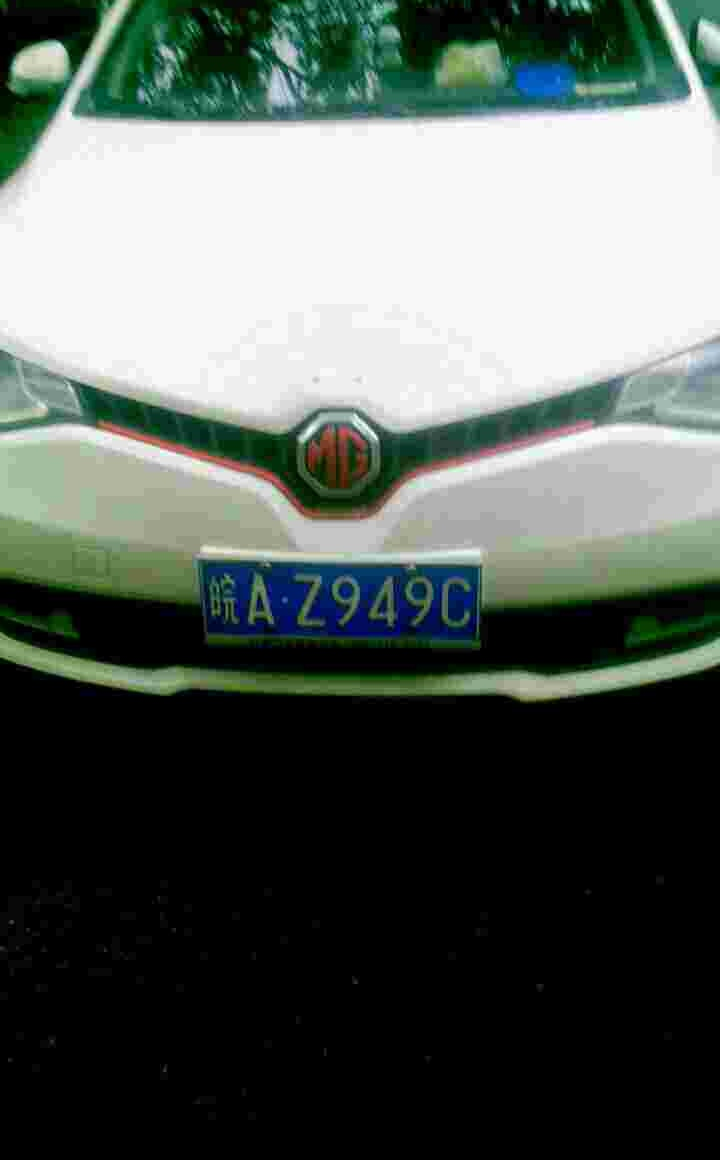license_plate: (198, 567, 484, 645)
